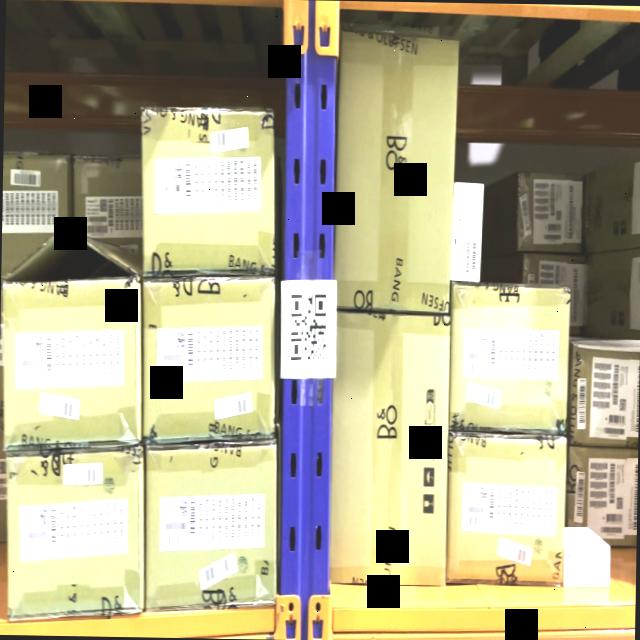box: (334, 29, 454, 315), (330, 310, 450, 580), (3, 452, 148, 616), (0, 281, 142, 448), (140, 106, 278, 276), (141, 282, 278, 438), (142, 446, 276, 605), (451, 282, 569, 432), (448, 436, 561, 584), (570, 342, 640, 447), (518, 173, 586, 250)
